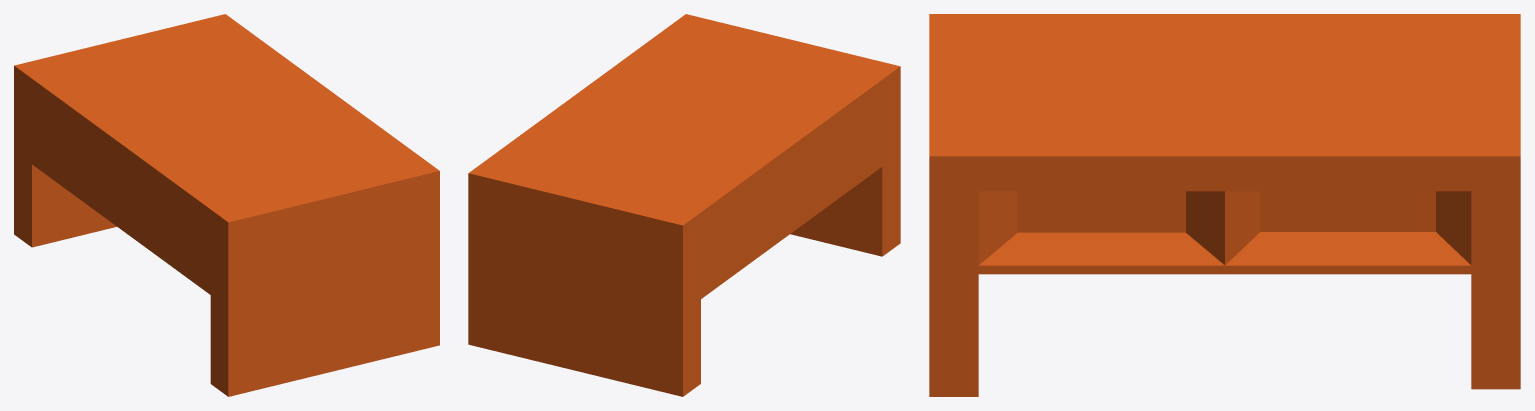
File: desk.fbx
The picture shows the model from 3 angles, left to right: view 1: azimuth 30°, elevation 25°; view 2: azimuth 150°, elevation 25°; view 3: azimuth 270°, elevation 25°; orthographic projection. The views are drawn at different scales.
Parts seen in each view (by area): view 1: Cube; view 2: Cube; view 3: Cube.
Part boxes in pixels (x1,y1,x2,y2): Cube: [14, 14, 439, 396]; Cube: [468, 14, 900, 396]; Cube: [929, 14, 1520, 396].
Bounding box in the file's own units: 621 × 490 × 1091.
